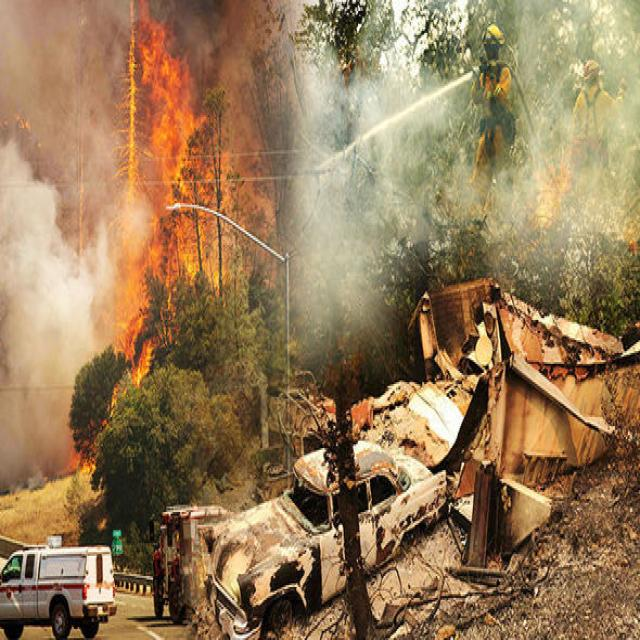Fire: (117, 0, 218, 357)
Smoke: (0, 148, 92, 441)
